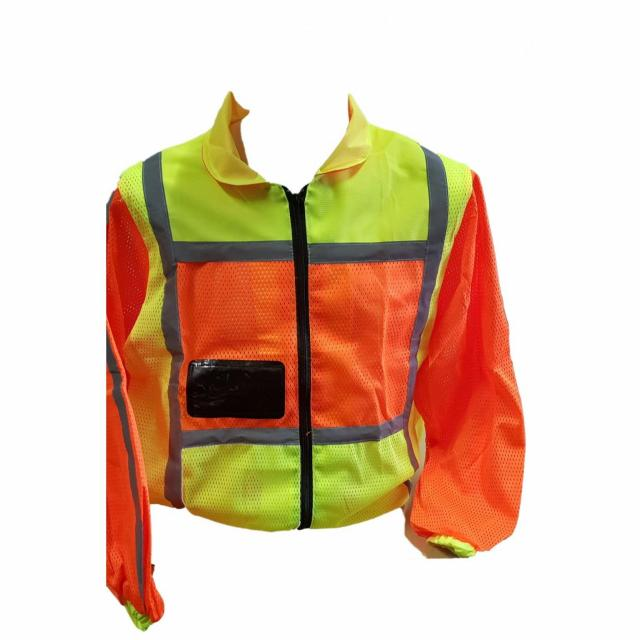Reflective-Jacket: (103, 109, 508, 542)
